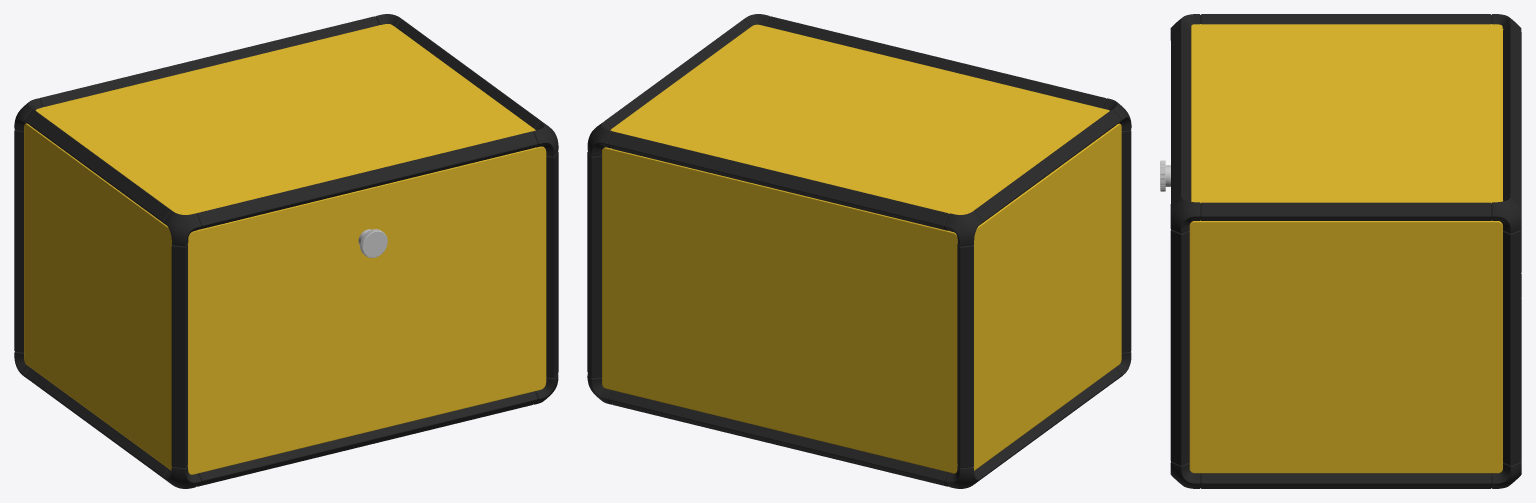
3 views of the same model, side by side, from view 1: azimuth 30°, elevation 25°; view 2: azimuth 150°, elevation 25°; view 3: azimuth 270°, elevation 25° (orthographic). The views are drawn at different scales.
Parts seen in each view (by area): view 1: 523x374x329; view 2: 523x374x329; view 3: 523x374x329.
Boxes of the visible parts, x1=… form: 523x374x329: x1=14, y1=14, x2=558, y2=488; 523x374x329: x1=587, y1=14, x2=1131, y2=488; 523x374x329: x1=1160, y1=14, x2=1521, y2=488.
Size of the model in its own units: 0.6007 by 0.4066 by 0.4646.
